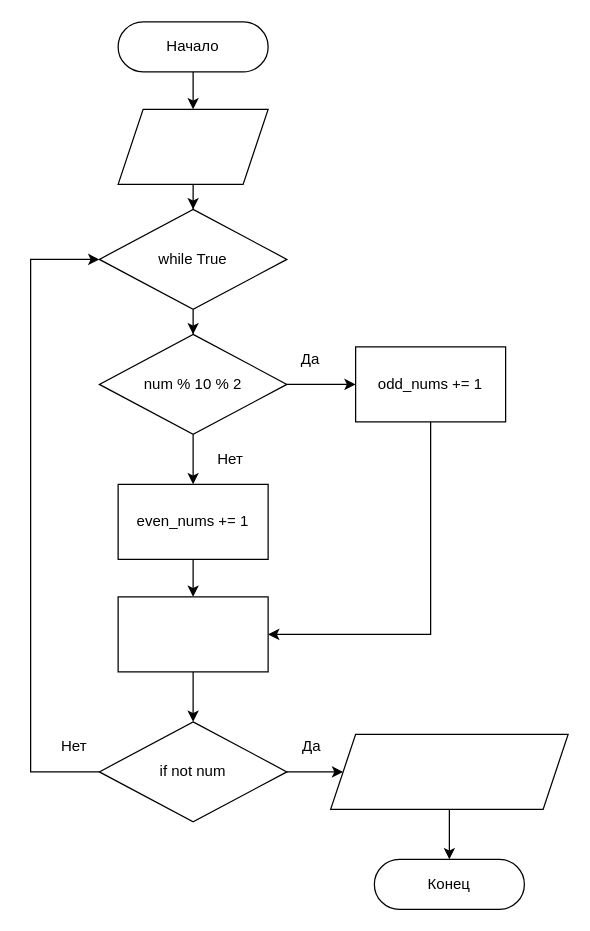
Some shapes in this 590 by 931 pixel diagram are drawn without their labels. Here are the shapes that lost their labels. From the top down, the box of each, then its label:
(117, 108, 268, 184): Ввод even_nums = 0 odd_nums = 0 num
(117, 596, 268, 672): num //= 10
(329, 733, 568, 809): Вывод print(f"четных {even_nums} нечетных {odd_nums}")
